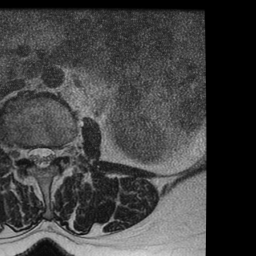CCS_normal: (38, 141, 45, 173)
LFS_normal: (54, 140, 64, 166)
LLS_normal: (45, 141, 54, 169)
RFS_normal: (20, 141, 29, 166)
RLS_normal: (29, 142, 38, 170)
